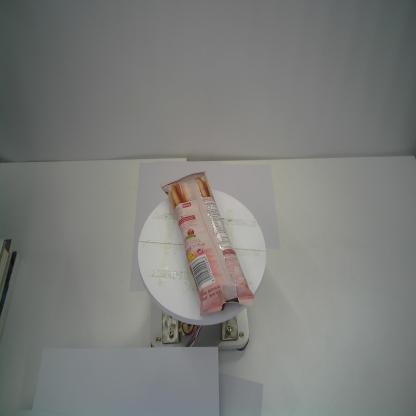Dessert: (158, 169, 257, 318)
